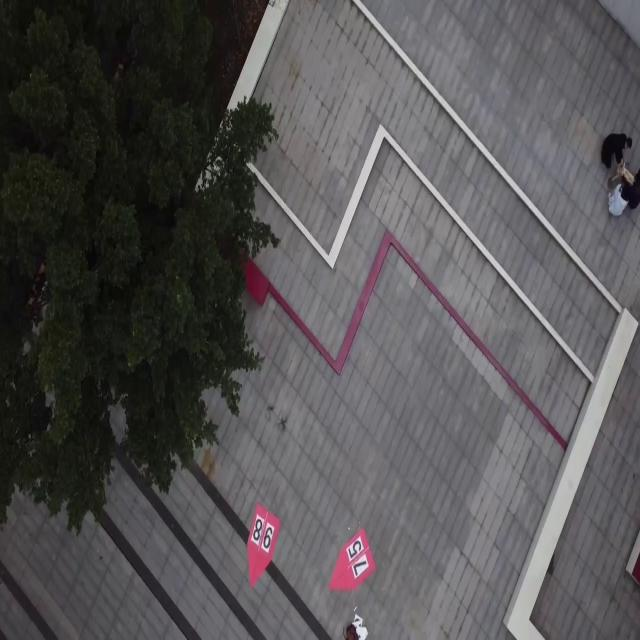-sign-: (328, 526, 376, 592), (246, 502, 280, 588)
